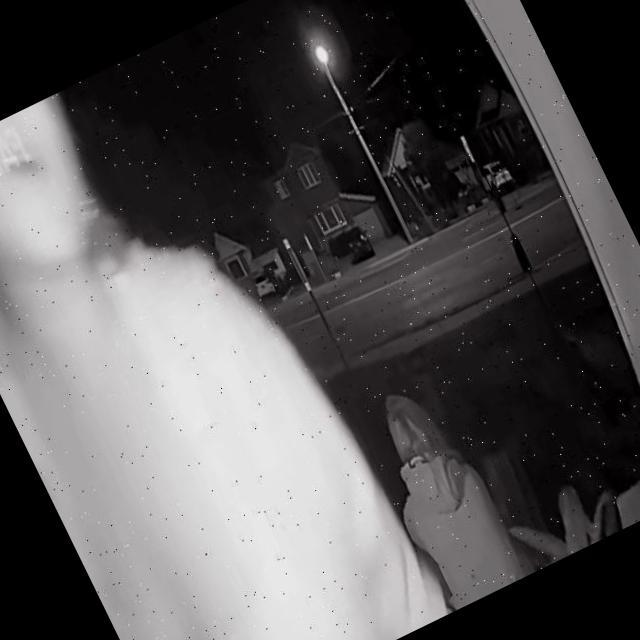person: (0, 41, 442, 640), (352, 380, 526, 614)
